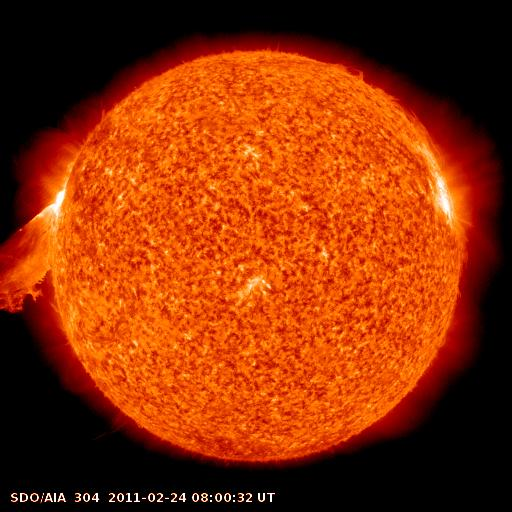prominence: (1, 199, 73, 321), (372, 80, 442, 151), (322, 50, 372, 86)
